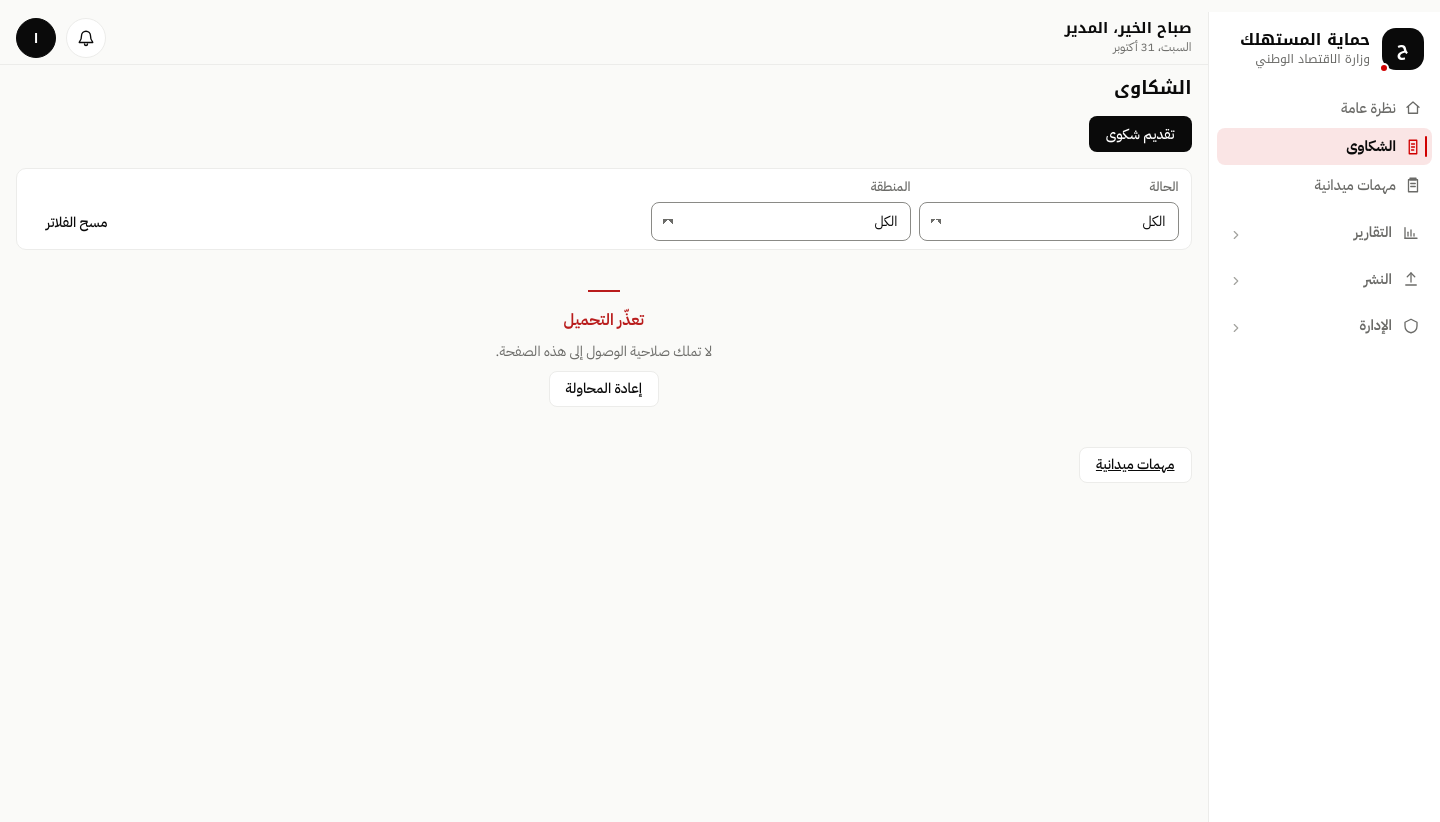
Test: moves from complaints to account without a document navigation
Click the button named "حساب المستخدم" at point(36, 38), box [16, 18, 56, 58]
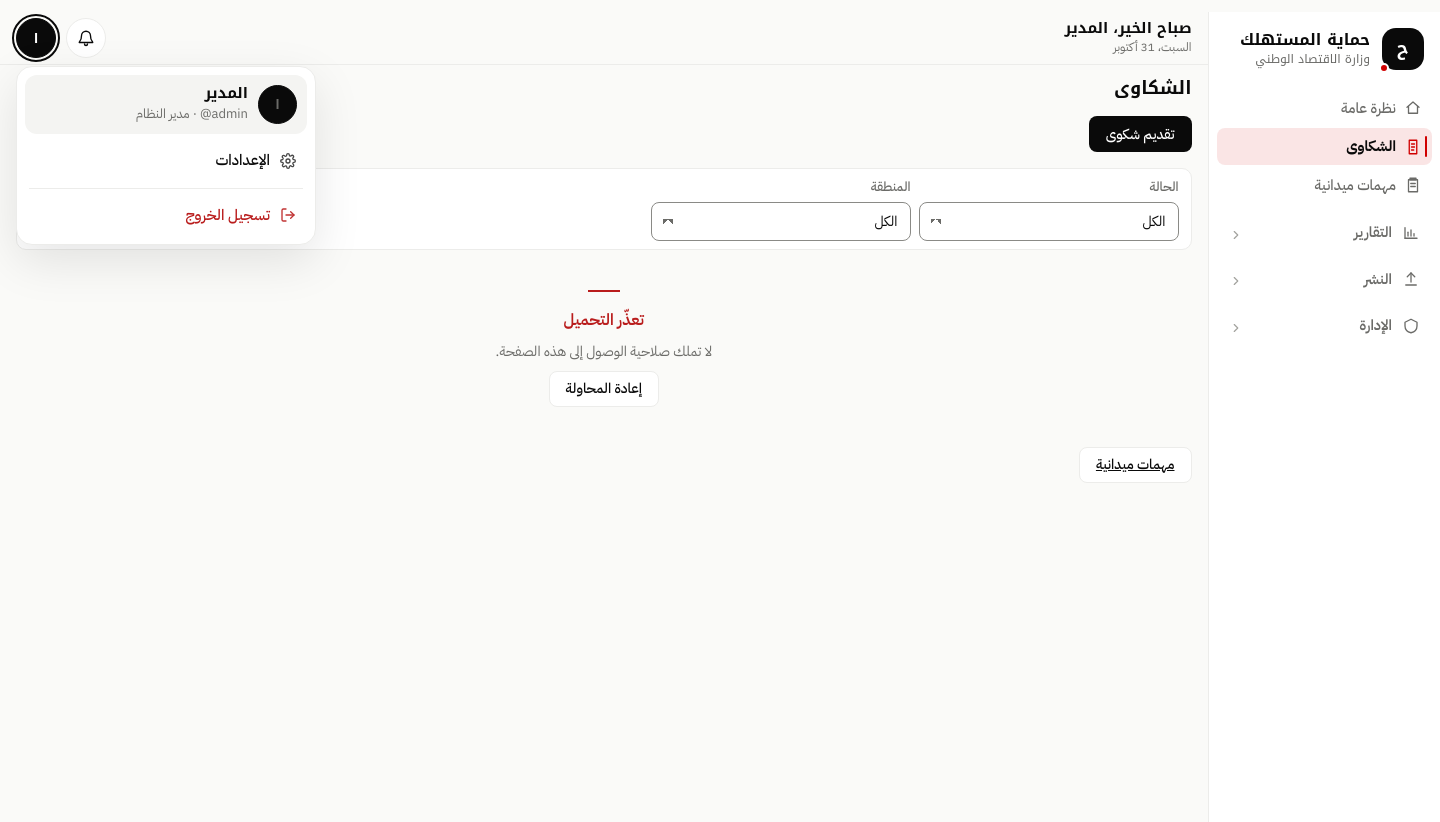
Click the link "الإعدادات" at point(256, 160), box [215, 149, 296, 171]
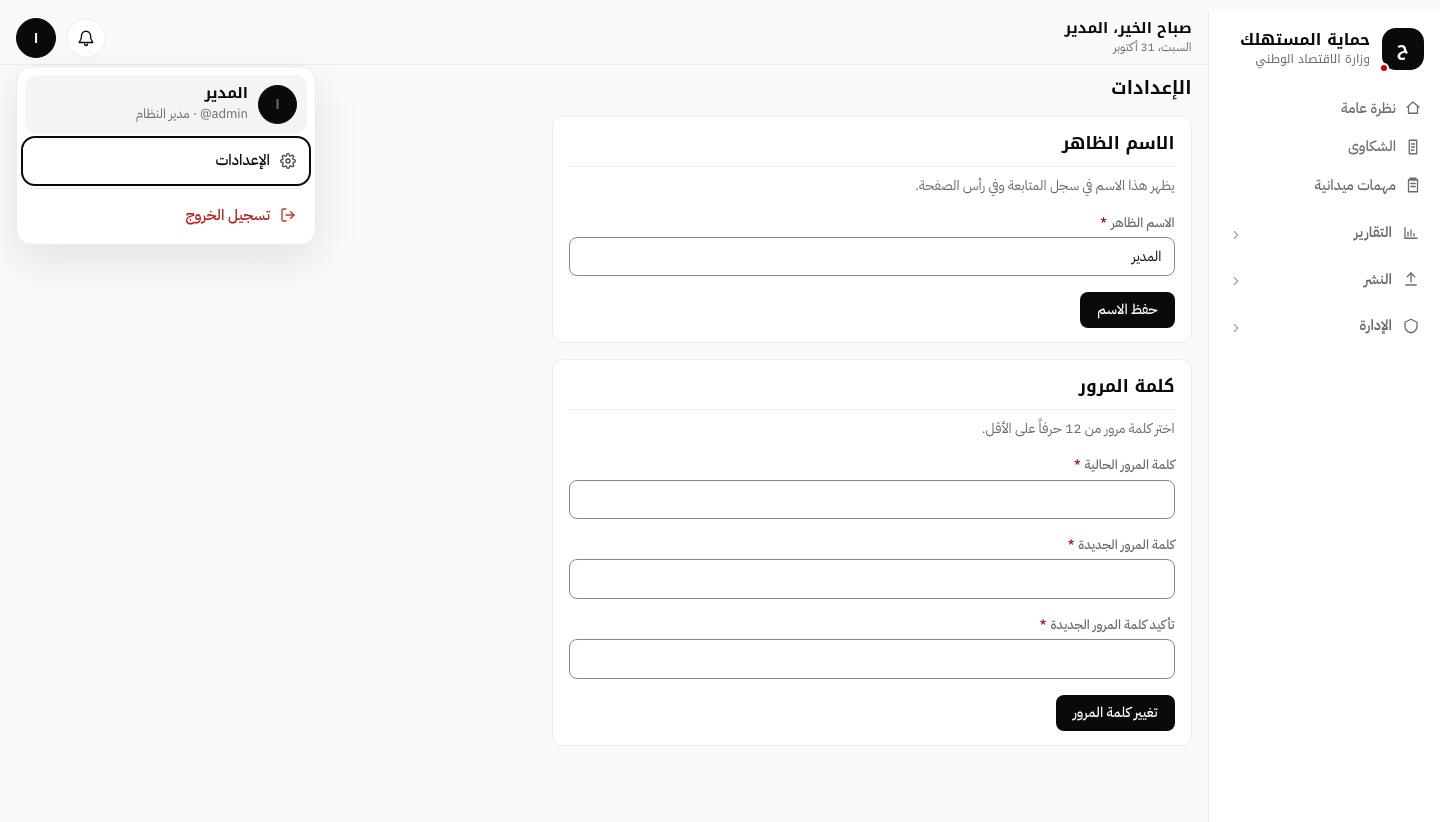
Expected: the heading "الإعدادات" is shown, [1111, 71, 1192, 105]
